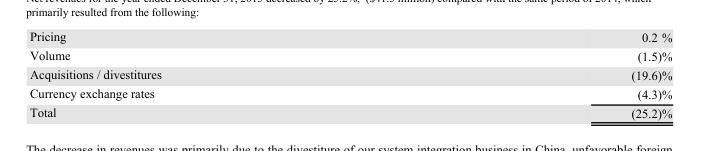table: (28, 28, 671, 119)
table column: (28, 28, 395, 119), (395, 28, 671, 119)
table row: (28, 45, 671, 64), (28, 64, 671, 83), (28, 83, 671, 102), (28, 28, 671, 45), (28, 102, 671, 119)
